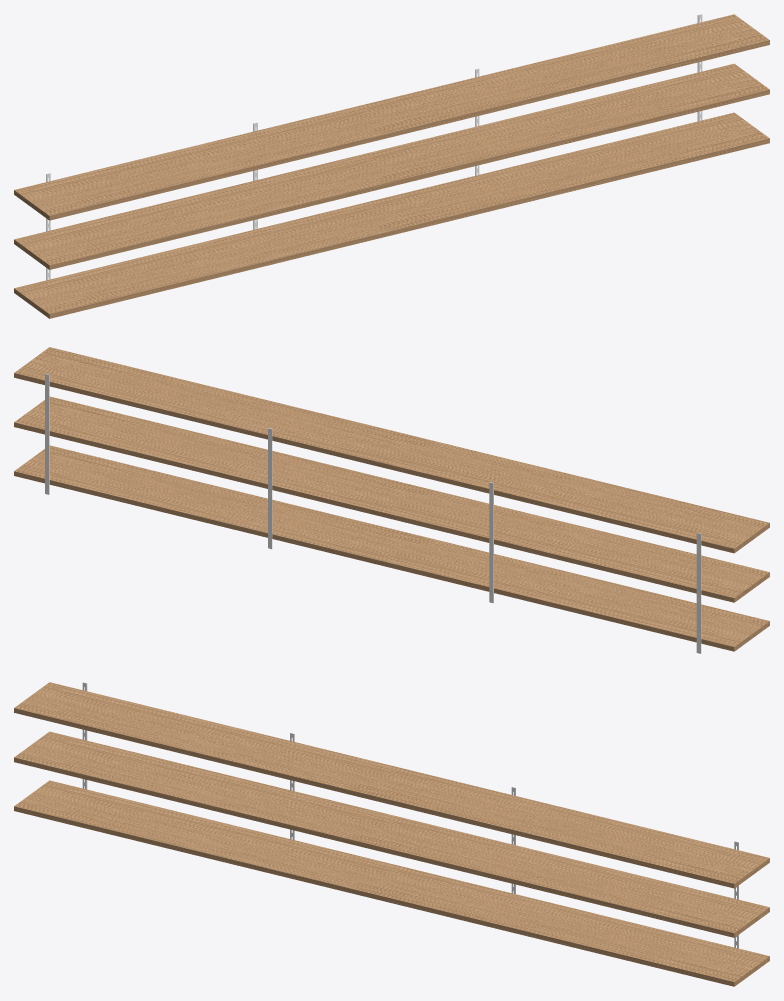
Rendered from wallshelves.gltf.
3 renders of one model, top to bottom at view 1: azimuth 30°, elevation 25°; view 2: azimuth 150°, elevation 25°; view 3: azimuth 330°, elevation 25°, orthographic.
Parts seen in each view (by area): view 1: wallshelves, shelfsupport1; view 2: wallshelves, shelfsupport1; view 3: wallshelves, shelfsupport1.
Part boxes in pixels (x1=…): wallshelves: x1=14, y1=14, x2=769, y2=318; shelfsupport1: x1=46, y1=14, x2=702, y2=280; wallshelves: x1=14, y1=347, x2=769, y2=651; shelfsupport1: x1=45, y1=373, x2=701, y2=653; wallshelves: x1=14, y1=682, x2=769, y2=986; shelfsupport1: x1=82, y1=682, x2=738, y2=948.
Bounding box in the file's own units: 12.15 × 1.93 × 1.06.
2 materials, 1 textured.
